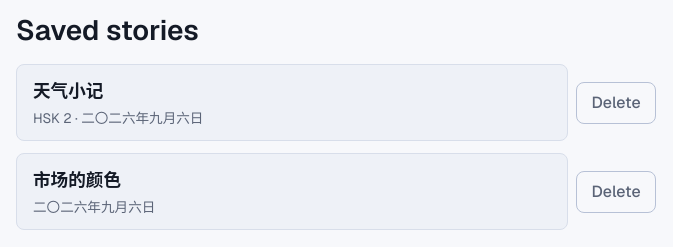
StoriesPage › deleting a story › removes the story from the list on a confirmed delete, without a full page reload
Expected: the link "天气小记 HSK 2 · 二〇二六年九月六日" is shown, [16,64,568,141]
Click the button "Delete" in the row of "天气小记" at (616, 103), box [576,82,656,124]
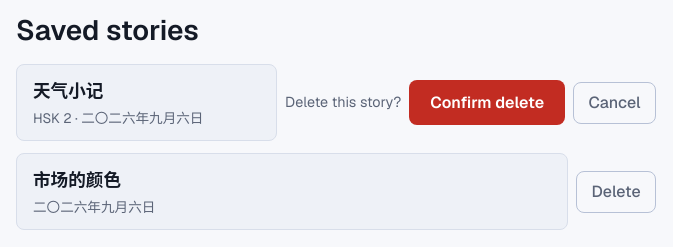
Click the button "Confirm delete" at (487, 103), box [409,80,565,125]
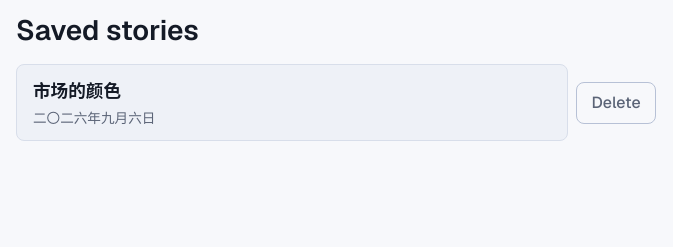
Expected: the link "市场的颜色 二〇二六年九月六日" is shown, [16,64,568,141]
Now the link "天气小记" is gone
